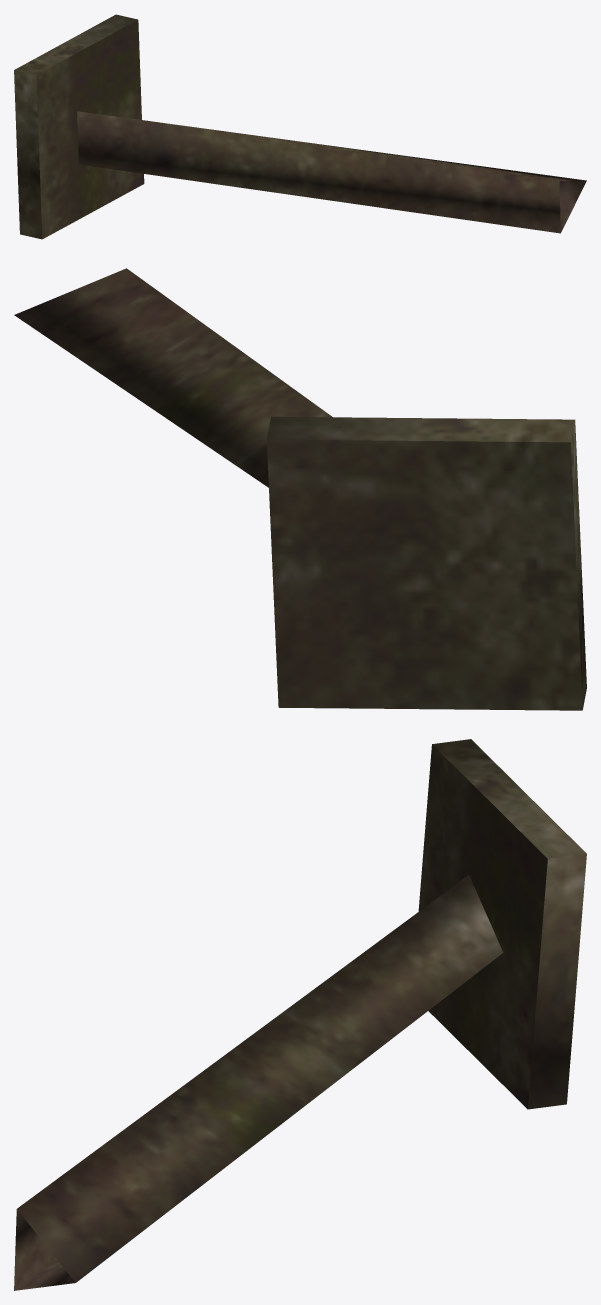
File: TI_Nail_05.fbx
3 views of the same model, one above another, from view 1: azimuth 30°, elevation 25°; view 2: azimuth 150°, elevation 25°; view 3: azimuth 270°, elevation 25° (orthographic). The views are drawn at different scales.
Parts seen in each view (by area): view 1: TI_Nail_05; view 2: TI_Nail_05; view 3: TI_Nail_05.
Part boxes in pixels (x1,y1,x2,y2): TI_Nail_05: [14, 14, 586, 239]; TI_Nail_05: [14, 268, 586, 710]; TI_Nail_05: [14, 739, 586, 1290].
Size of the model in its own units: 0.1454 by 0.0516 by 0.1025.
